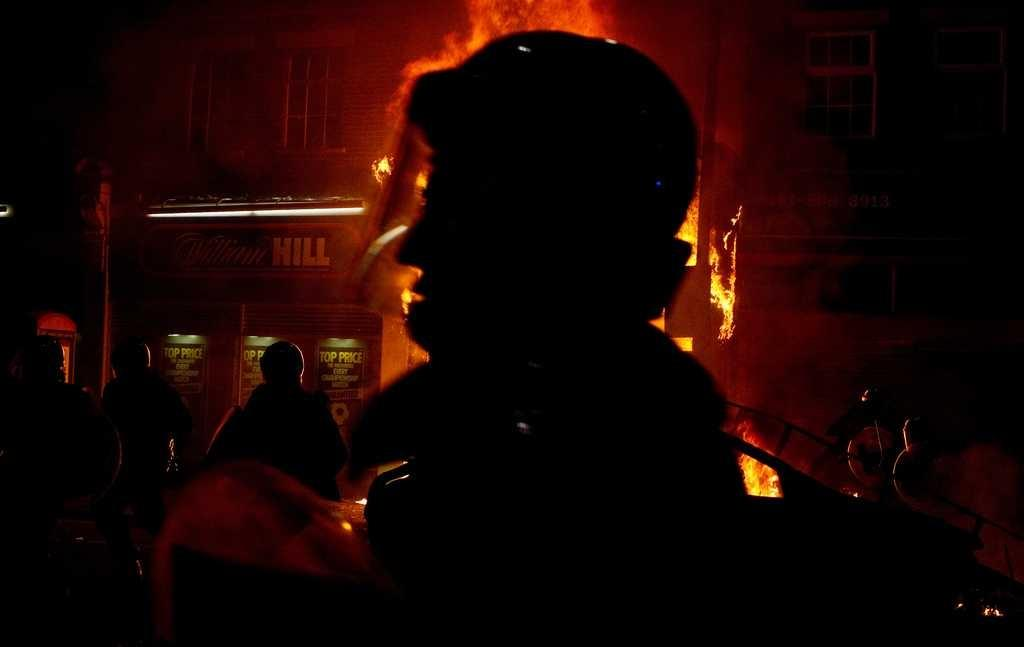fire: (426, 0, 656, 56), (678, 216, 758, 330), (728, 418, 790, 502)
